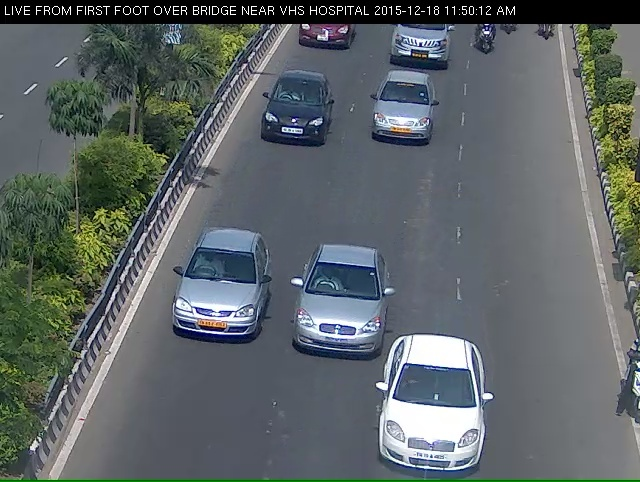Car: (387, 365, 486, 476), (289, 260, 381, 371), (171, 246, 261, 359), (262, 78, 324, 150), (384, 22, 453, 69), (375, 81, 424, 147), (292, 25, 361, 52)
